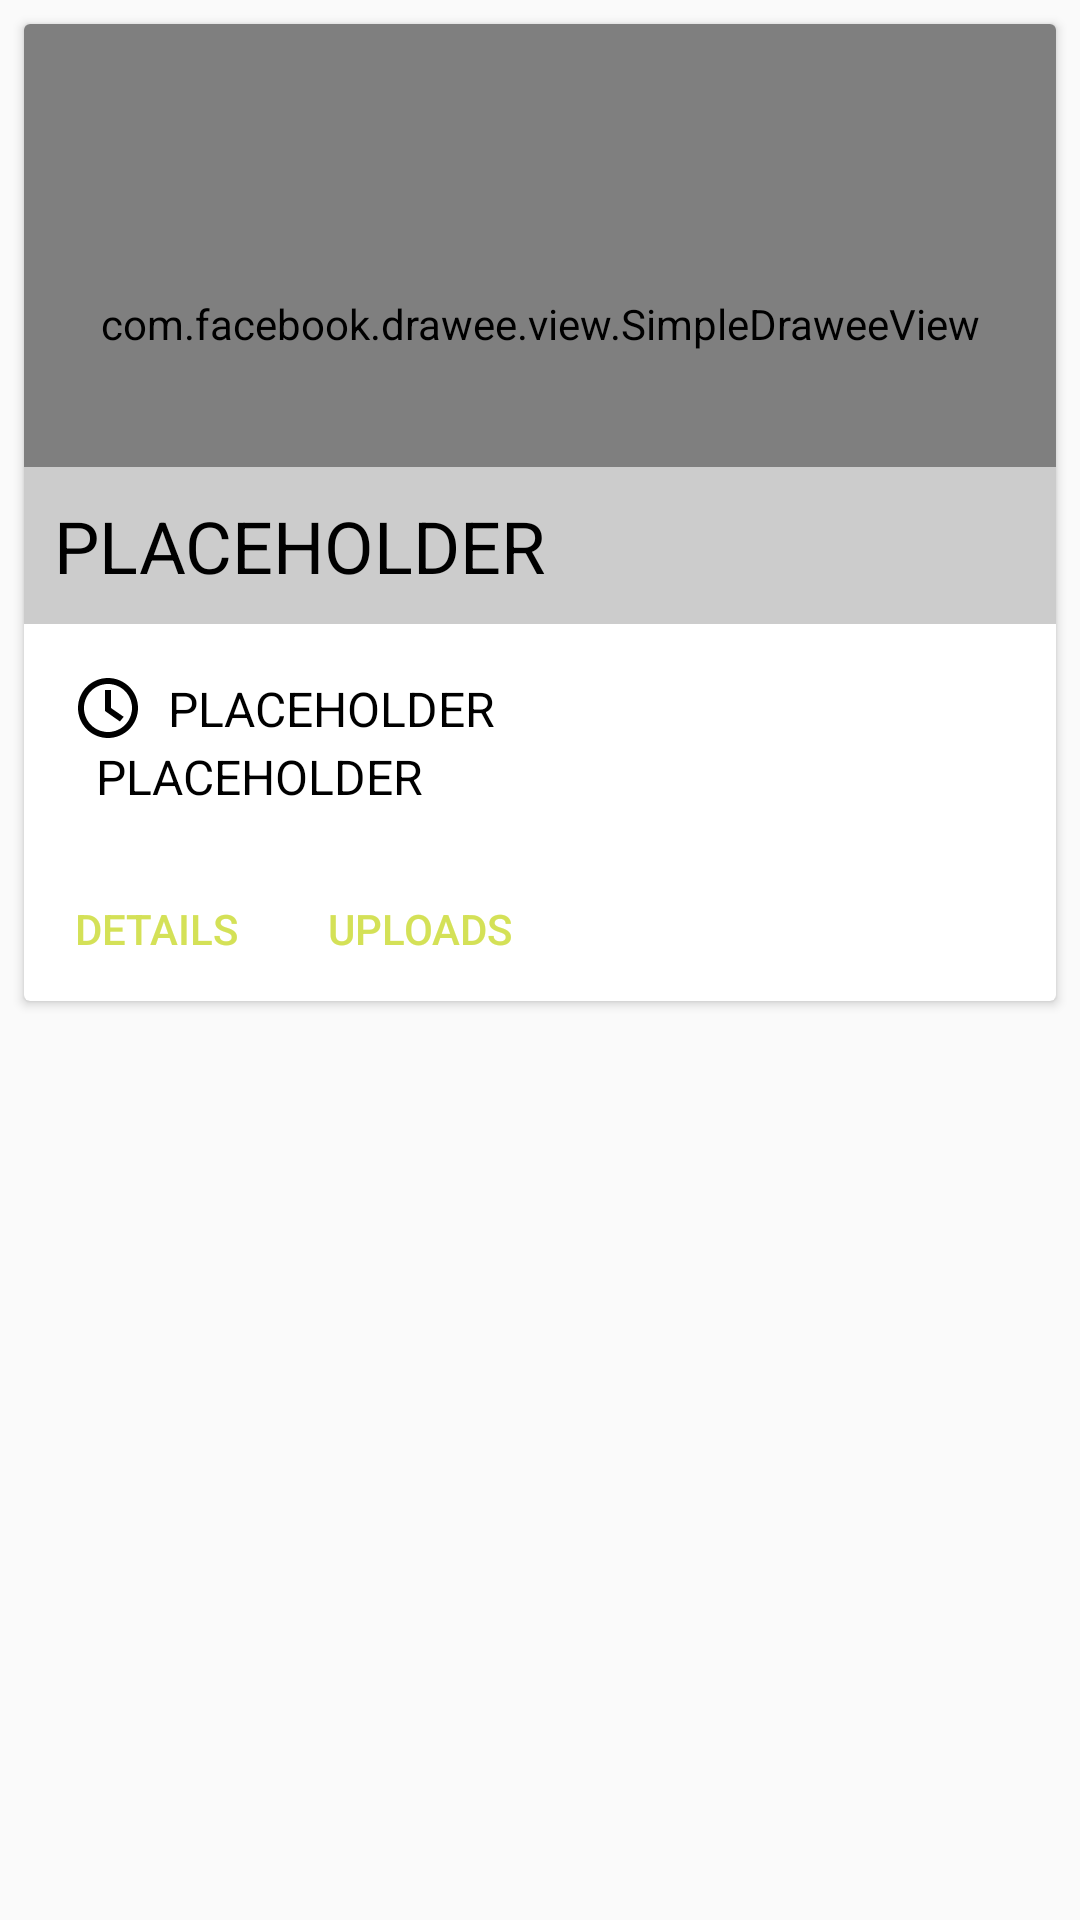

Icon bounding boxes for this 1080px×1920px phone screenshot, format BBox(x1, y1, x2, y2):
Clock icon: BBox(78, 678, 138, 738)
